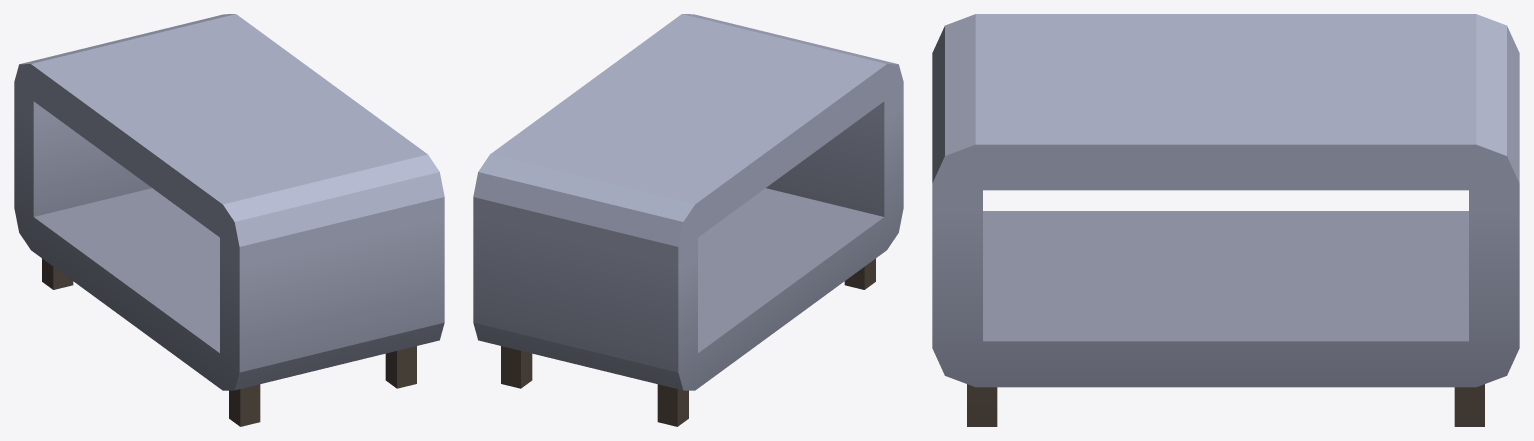
File: shelf.fbx
3 renders of one model, left to right at view 1: azimuth 30°, elevation 25°; view 2: azimuth 150°, elevation 25°; view 3: azimuth 270°, elevation 25°, orthographic. The views are drawn at different scales.
Visible parts, largest first — view 1: Куб.165; view 2: Куб.165; view 3: Куб.165.
Boxes of the visible parts, left/top/right/bottom form: Куб.165: left=14, top=14, right=444, bottom=426; Куб.165: left=473, top=14, right=903, bottom=426; Куб.165: left=932, top=14, right=1519, bottom=426.
Size of the model in its own units: 57.17 by 59.51 by 109.
